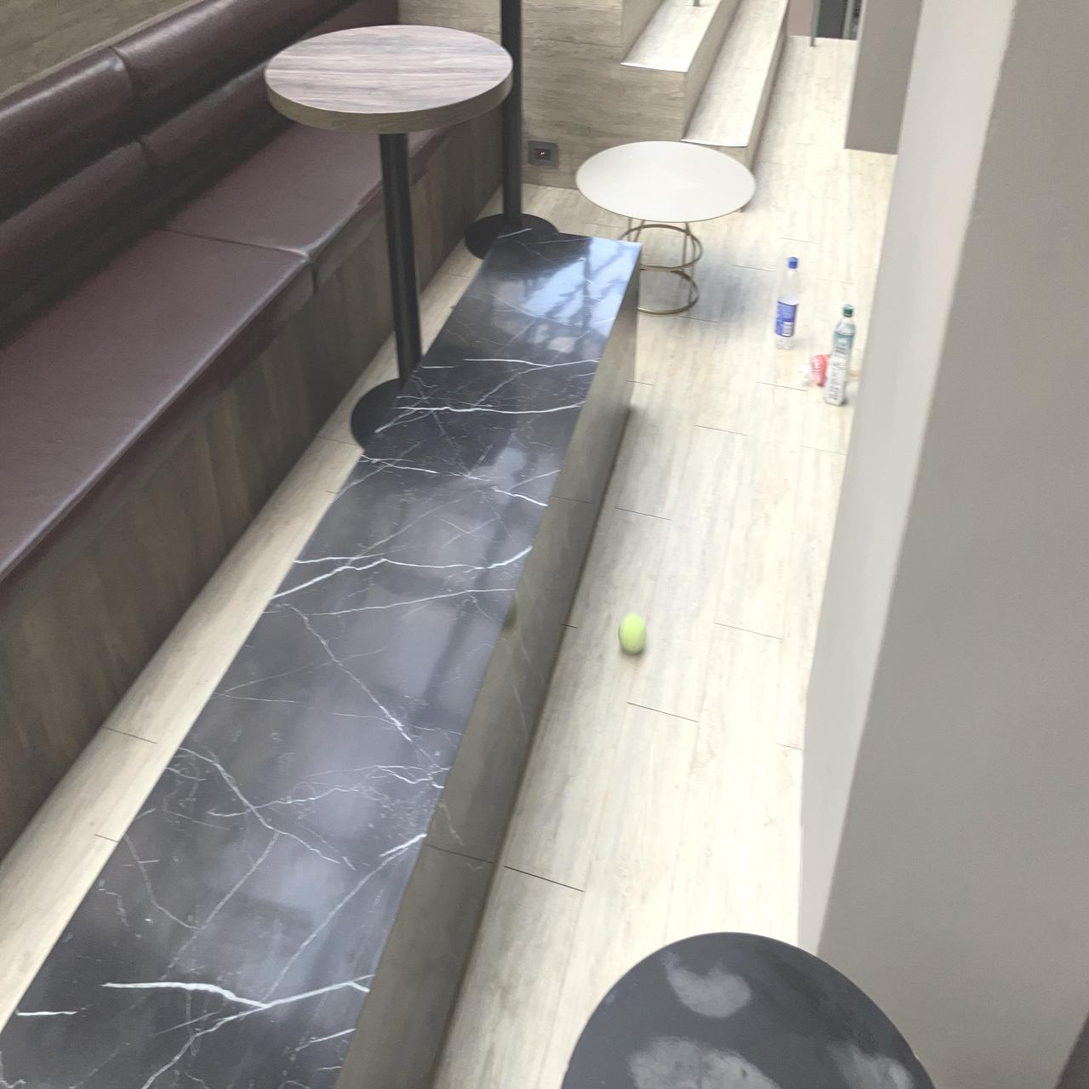plastic-bottle: (824, 305, 855, 405), (775, 257, 800, 350)
tennisball: (619, 613, 646, 654)
